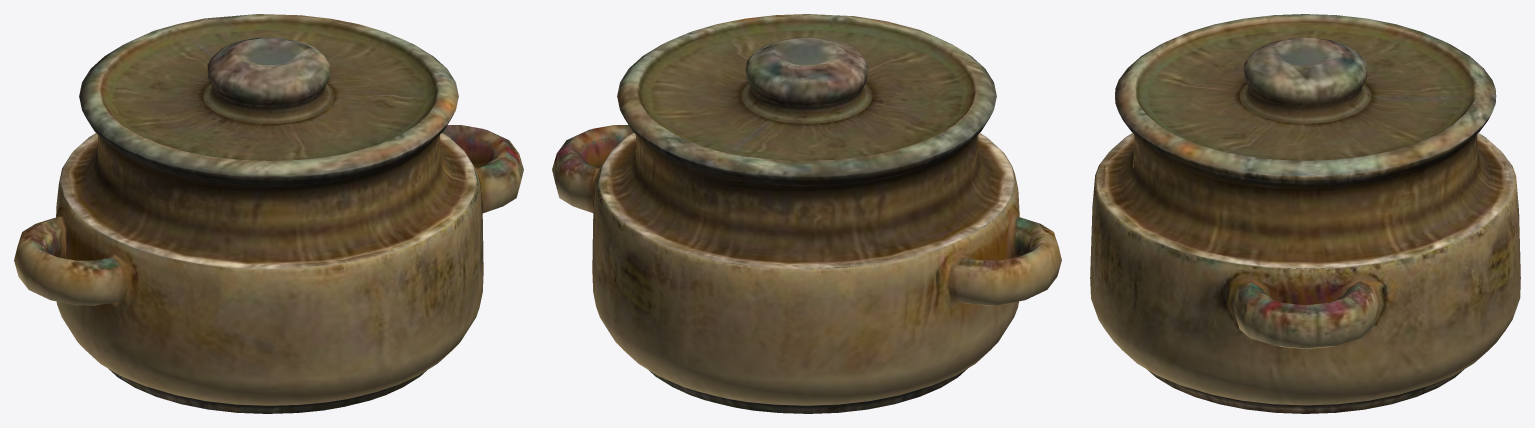
File: ceramic_pot.glb
3 views of the same model, side by side, from view 1: azimuth 30°, elevation 25°; view 2: azimuth 150°, elevation 25°; view 3: azimuth 270°, elevation 25° (orthographic).
Parts seen in each view (by area): view 1: ceramic_pot; view 2: ceramic_pot; view 3: ceramic_pot.
Boxes of the visible parts, bbox=[...] form: ceramic_pot: bbox=[14, 14, 523, 413]; ceramic_pot: bbox=[552, 14, 1061, 413]; ceramic_pot: bbox=[1090, 14, 1520, 413].
Bounding box in the file's own units: 0.6003 × 0.34 × 0.459.
1 material, 1 textured.
